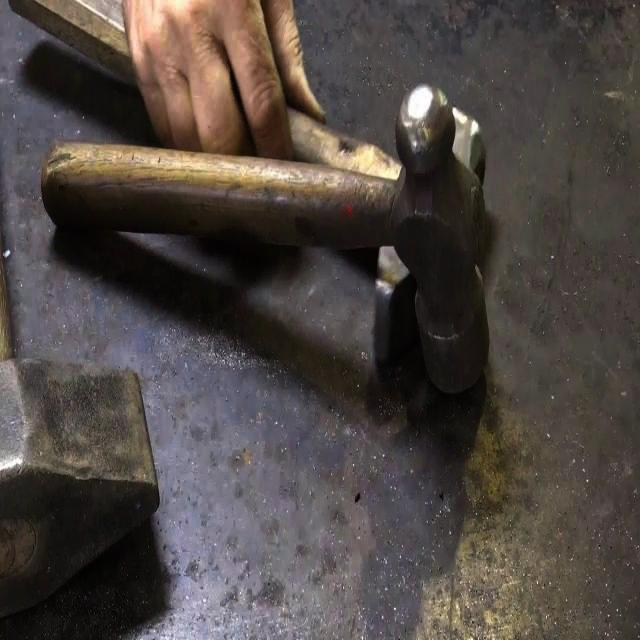hammer: (0, 0, 490, 372), (29, 85, 518, 411)
